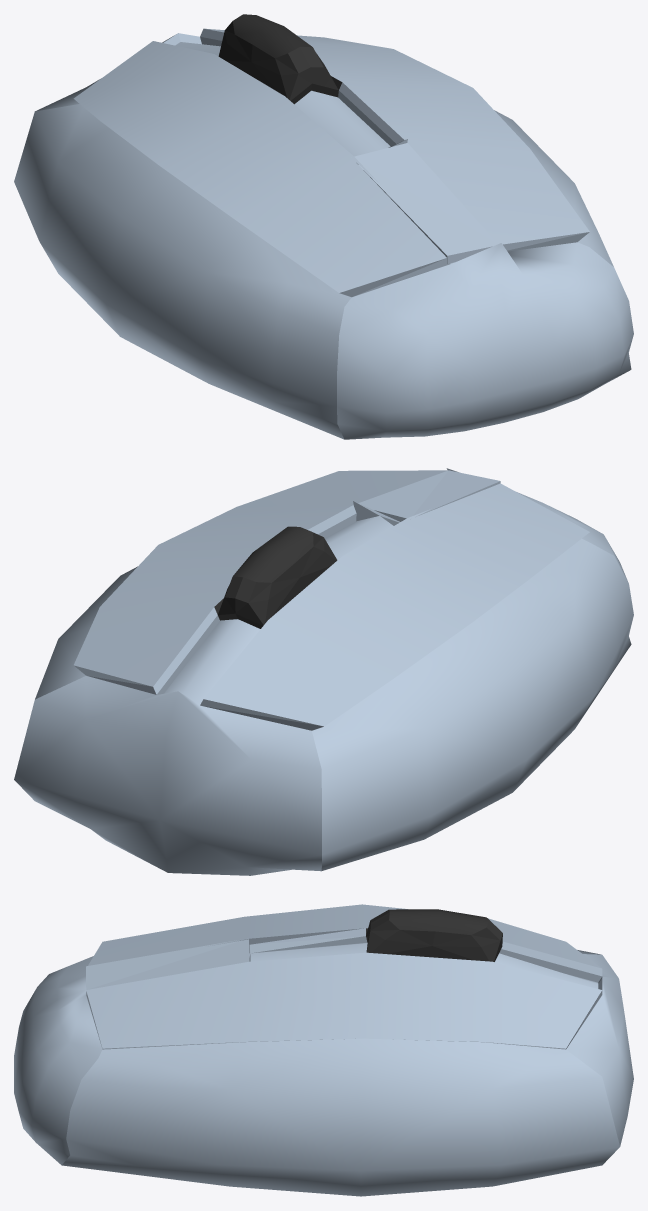
The model's file is pc_mouse.fbx.
3 renders of one model, top to bottom at view 1: azimuth 30°, elevation 25°; view 2: azimuth 150°, elevation 25°; view 3: azimuth 270°, elevation 25°, orthographic. The views are drawn at different scales.
Visible parts, largest first — view 1: Object; view 2: Object; view 3: Object.
Part boxes in pixels (bbox=[...]): Object: bbox=[14, 14, 633, 439]; Object: bbox=[14, 468, 633, 875]; Object: bbox=[14, 904, 633, 1196].
Size of the model in its own units: 52.97 by 31.37 by 77.45.
